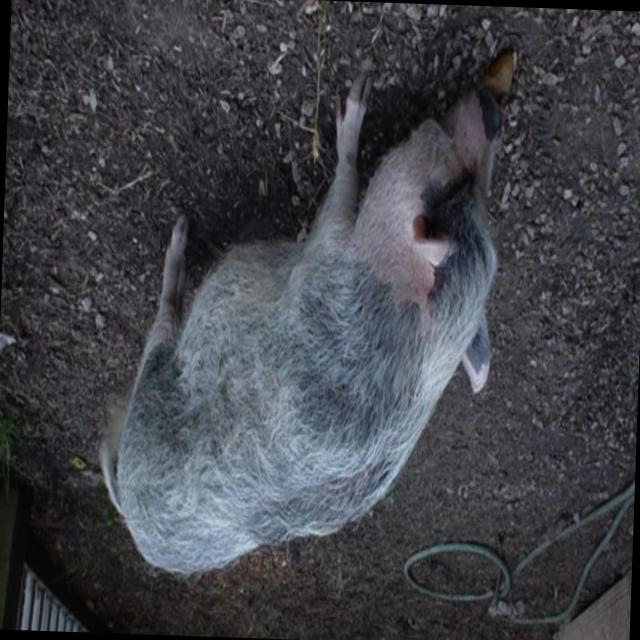pig: (115, 47, 518, 572)
